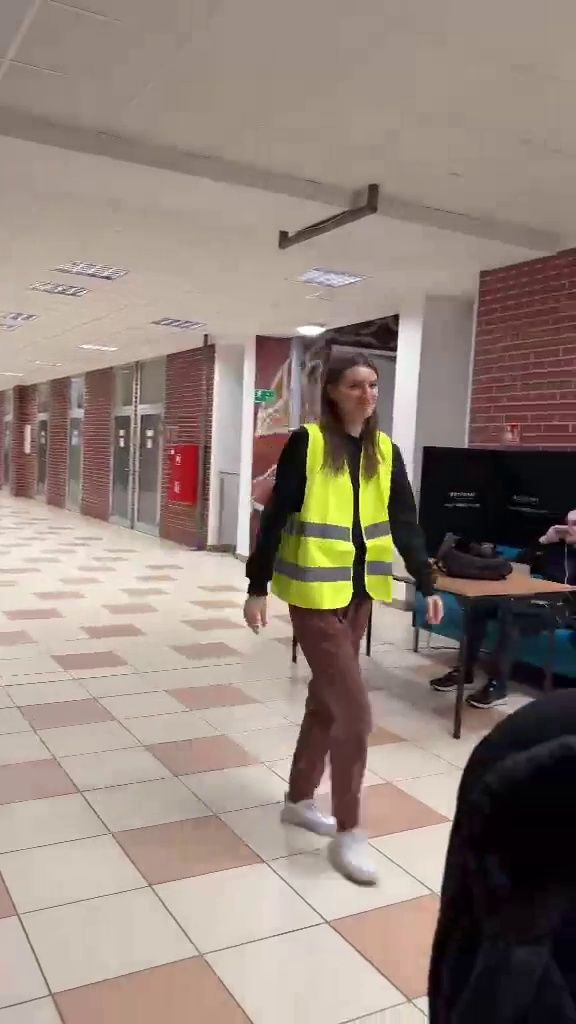no vest: (461, 483, 574, 708)
vest: (241, 348, 446, 885)
